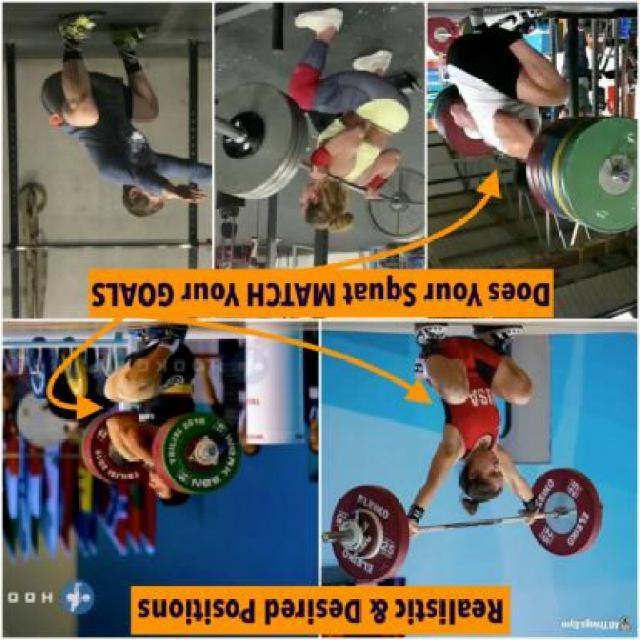Barbell: (615, 167, 634, 185), (321, 529, 336, 549), (204, 443, 221, 460)
